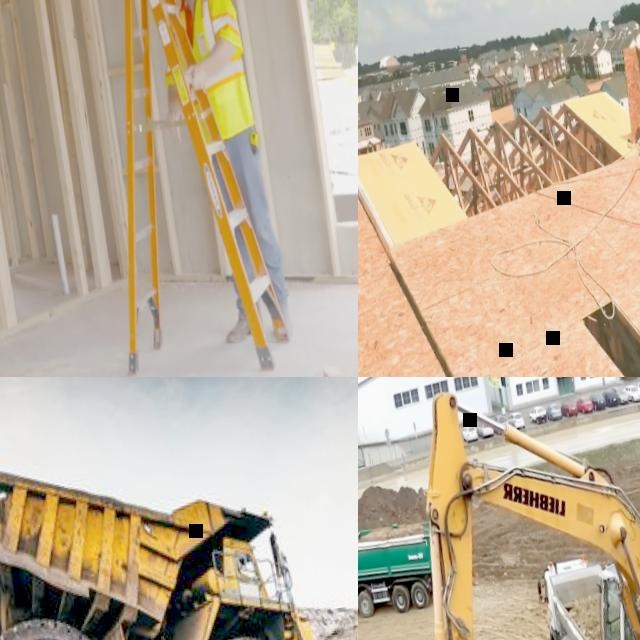Person: (159, 0, 295, 352), (630, 23, 640, 171), (624, 627, 634, 640)
Safety Vest: (152, 0, 249, 103)
machinery: (0, 382, 355, 640), (391, 377, 640, 640), (358, 511, 443, 626), (533, 551, 621, 640)
vehicle: (492, 414, 510, 437), (461, 423, 479, 444), (529, 406, 547, 427), (507, 411, 525, 431), (545, 403, 563, 423), (561, 400, 579, 420), (576, 396, 594, 416), (589, 392, 607, 412), (611, 387, 629, 407), (477, 421, 495, 440), (601, 389, 619, 408), (623, 384, 640, 404)
